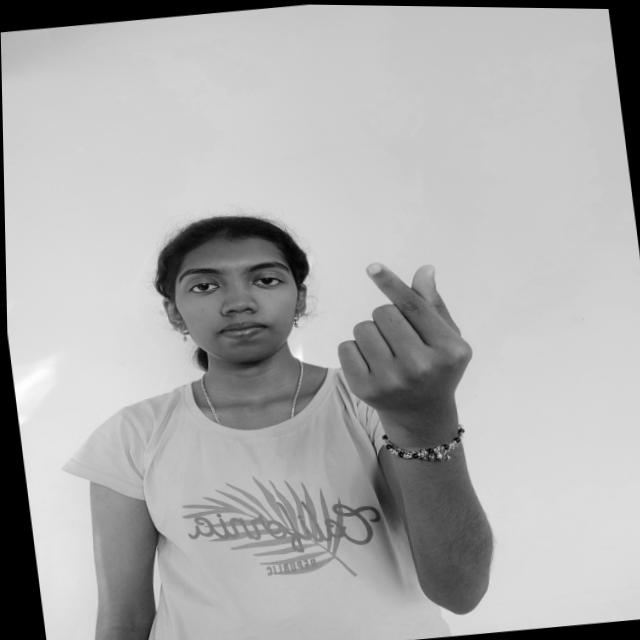Grattitude: (312, 247, 486, 433)
